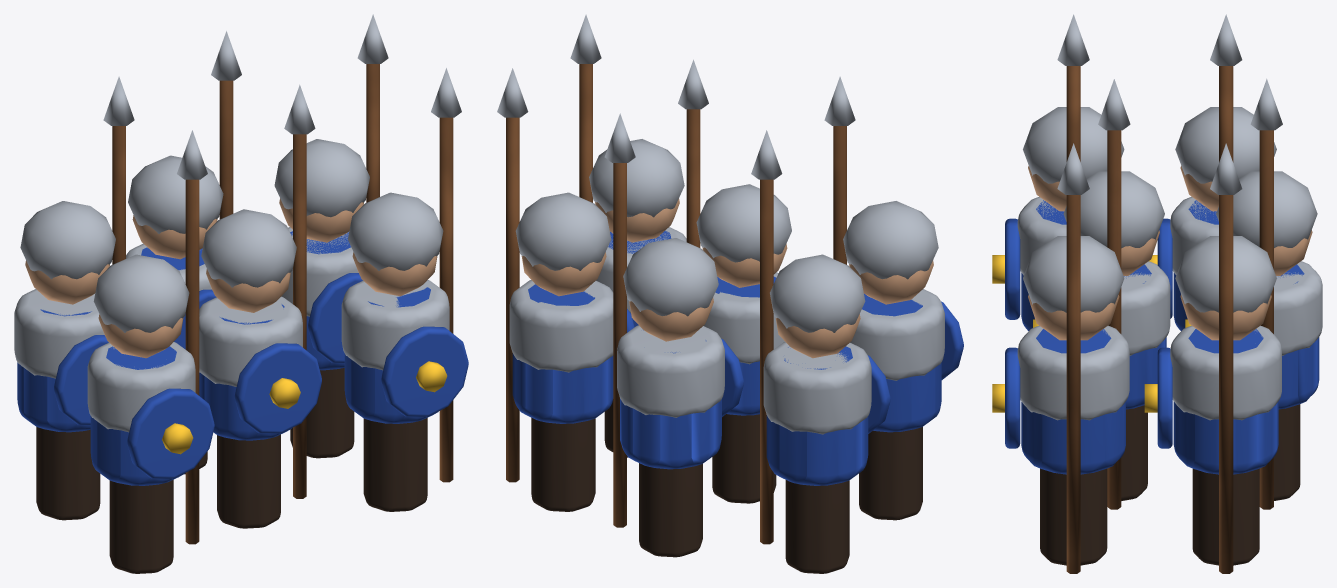
Rendered from squad_blue.glb.
3 views of the same model, side by side, from view 1: azimuth 30°, elevation 25°; view 2: azimuth 150°, elevation 25°; view 3: azimuth 270°, elevation 25° (orthographic). The views are drawn at different scales.
Visible parts, largest first — view 1: legs; view 2: legs; view 3: legs.
Part boxes in pixels (x1=…): legs: x1=14, y1=14, x2=468, y2=573; legs: x1=497, y1=14, x2=963, y2=573; legs: x1=992, y1=14, x2=1322, y2=573.
Bounding box in the file's own units: 0.429 × 0.475 × 0.3249.
Materials: 3 (1 with a texture image).
